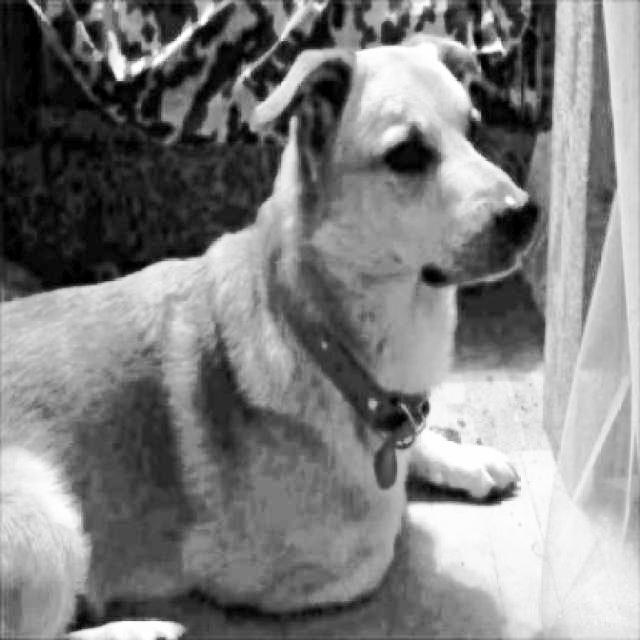Dog: (0, 27, 538, 640)
